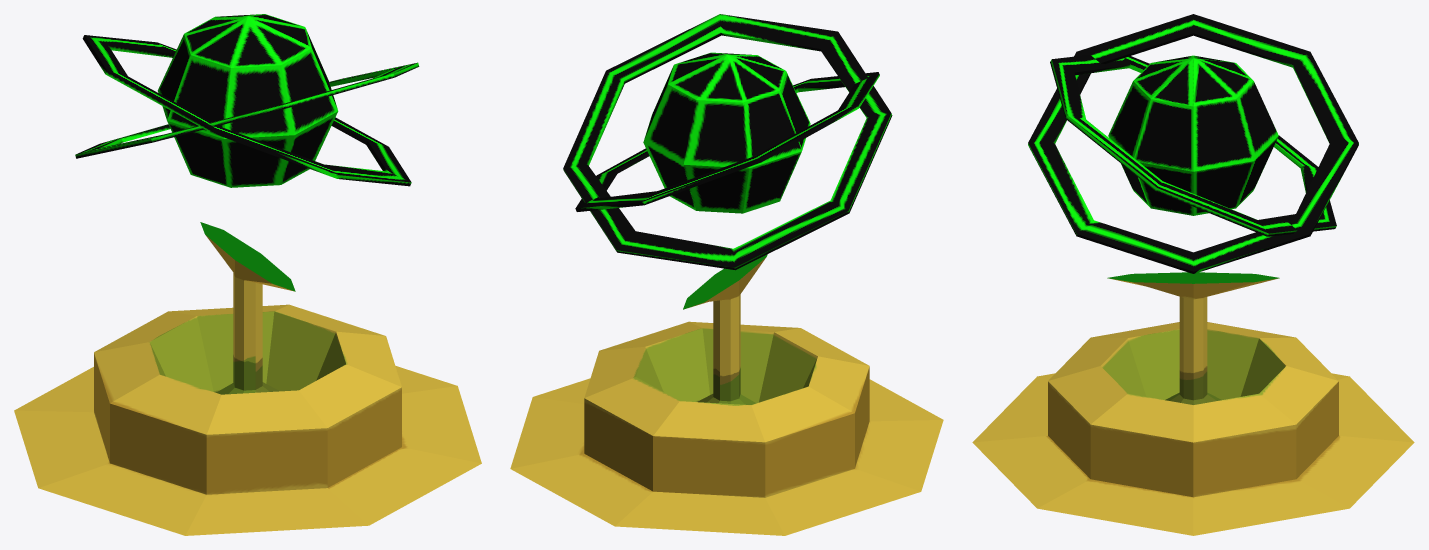
File: Hologram.fbx
The picture shows the model from 3 angles, left to right: view 1: azimuth 30°, elevation 25°; view 2: azimuth 150°, elevation 25°; view 3: azimuth 270°, elevation 25°; orthographic projection. The views are drawn at different scales.
Parts seen in each view (by area): view 1: Cylinder; view 2: Cylinder; view 3: Cylinder.
Boxes of the visible parts, x1,y1,x2,y2 form: Cylinder: [14, 14, 481, 535]; Cylinder: [510, 14, 943, 535]; Cylinder: [972, 14, 1414, 535].
Bounding box in the file's own units: 304 × 291 × 304.
Materials: 1 (1 with a texture image).
